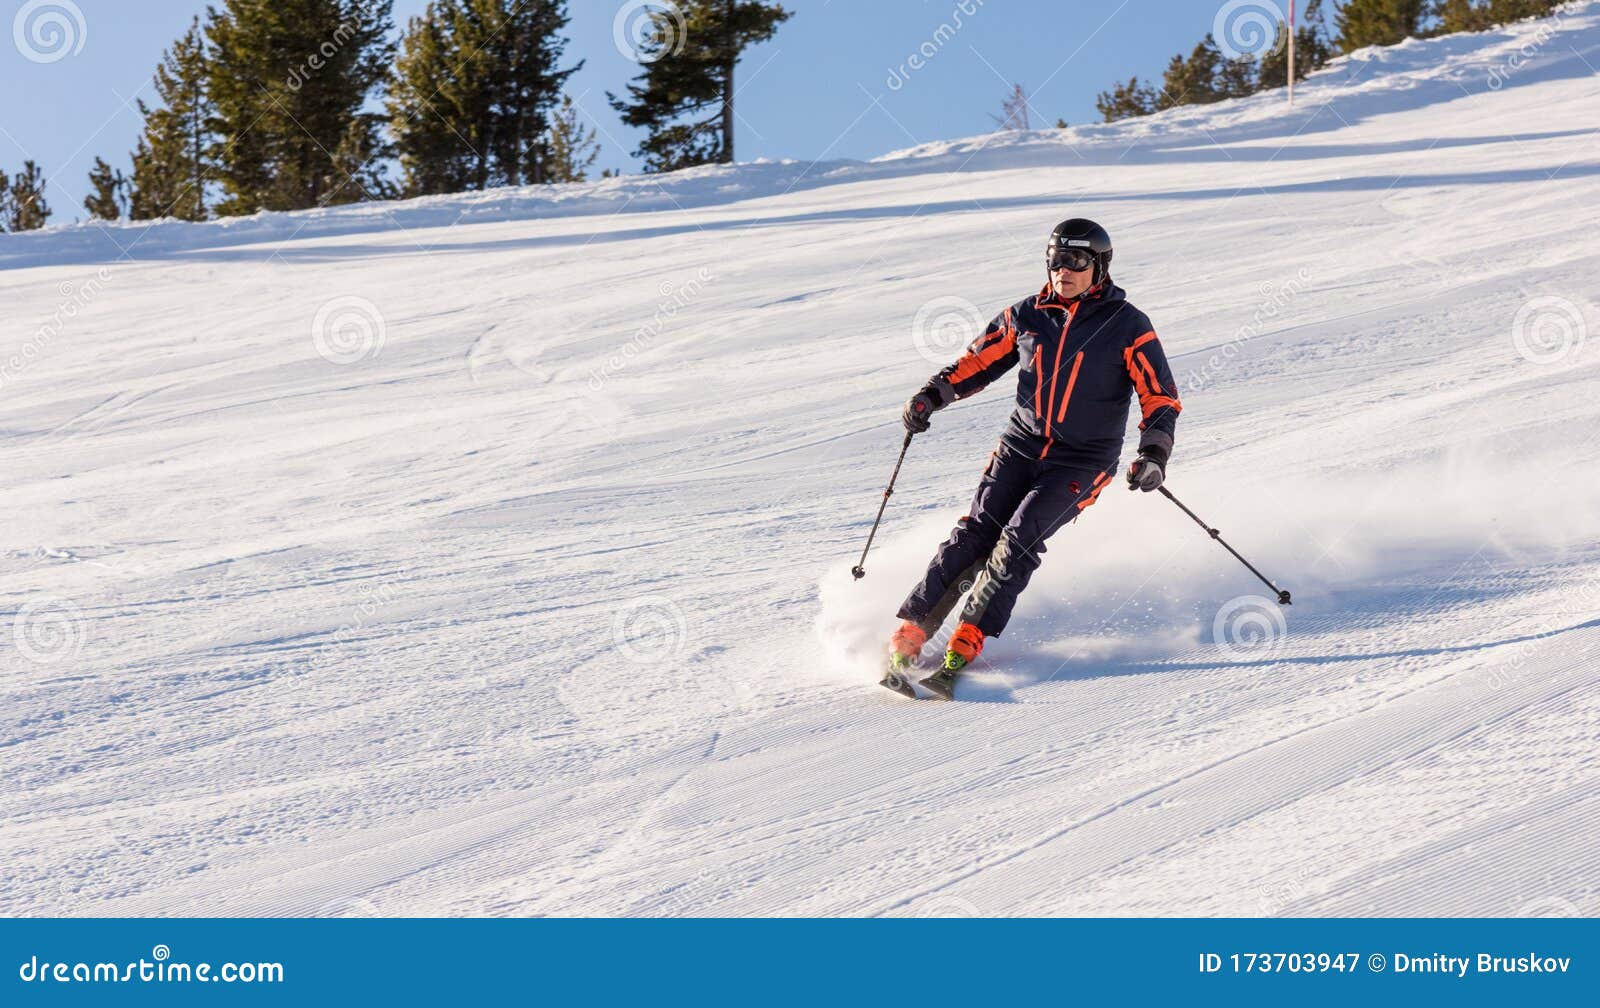skier: (838, 215, 1307, 718)
